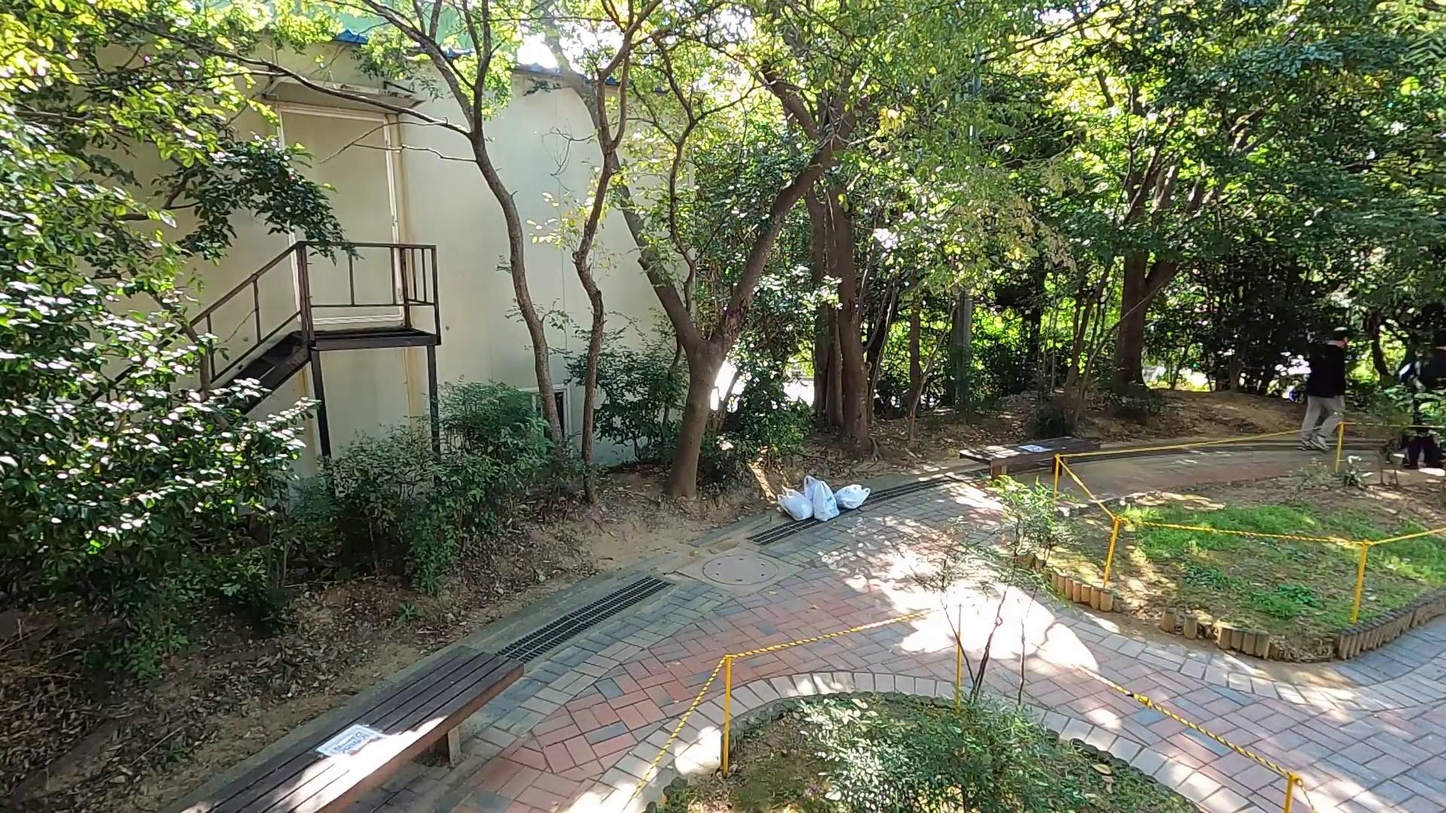person: (1298, 325, 1350, 452)
trash: (775, 484, 814, 521), (809, 479, 839, 522), (831, 484, 871, 509), (801, 475, 824, 504)
